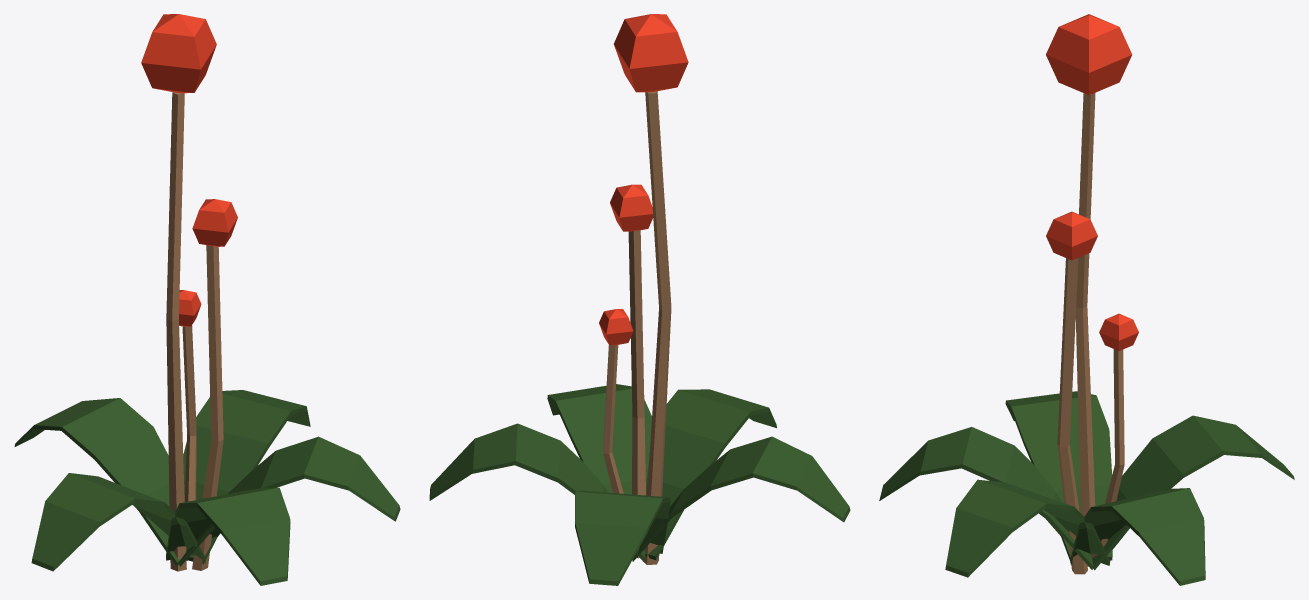
File: Plant_02.glb
The picture shows the model from 3 angles, left to right: view 1: azimuth 30°, elevation 25°; view 2: azimuth 150°, elevation 25°; view 3: azimuth 270°, elevation 25°; orthographic projection.
Visible parts, largest first — view 1: Plant_02; view 2: Plant_02; view 3: Plant_02.
Boxes of the visible parts, x1=… form: Plant_02: x1=14, y1=14, x2=400, y2=585; Plant_02: x1=429, y1=14, x2=850, y2=585; Plant_02: x1=879, y1=14, x2=1294, y2=585.
Bounding box in the file's own units: 0.8177 × 1.24 × 0.8529.
1 material, 1 textured.
